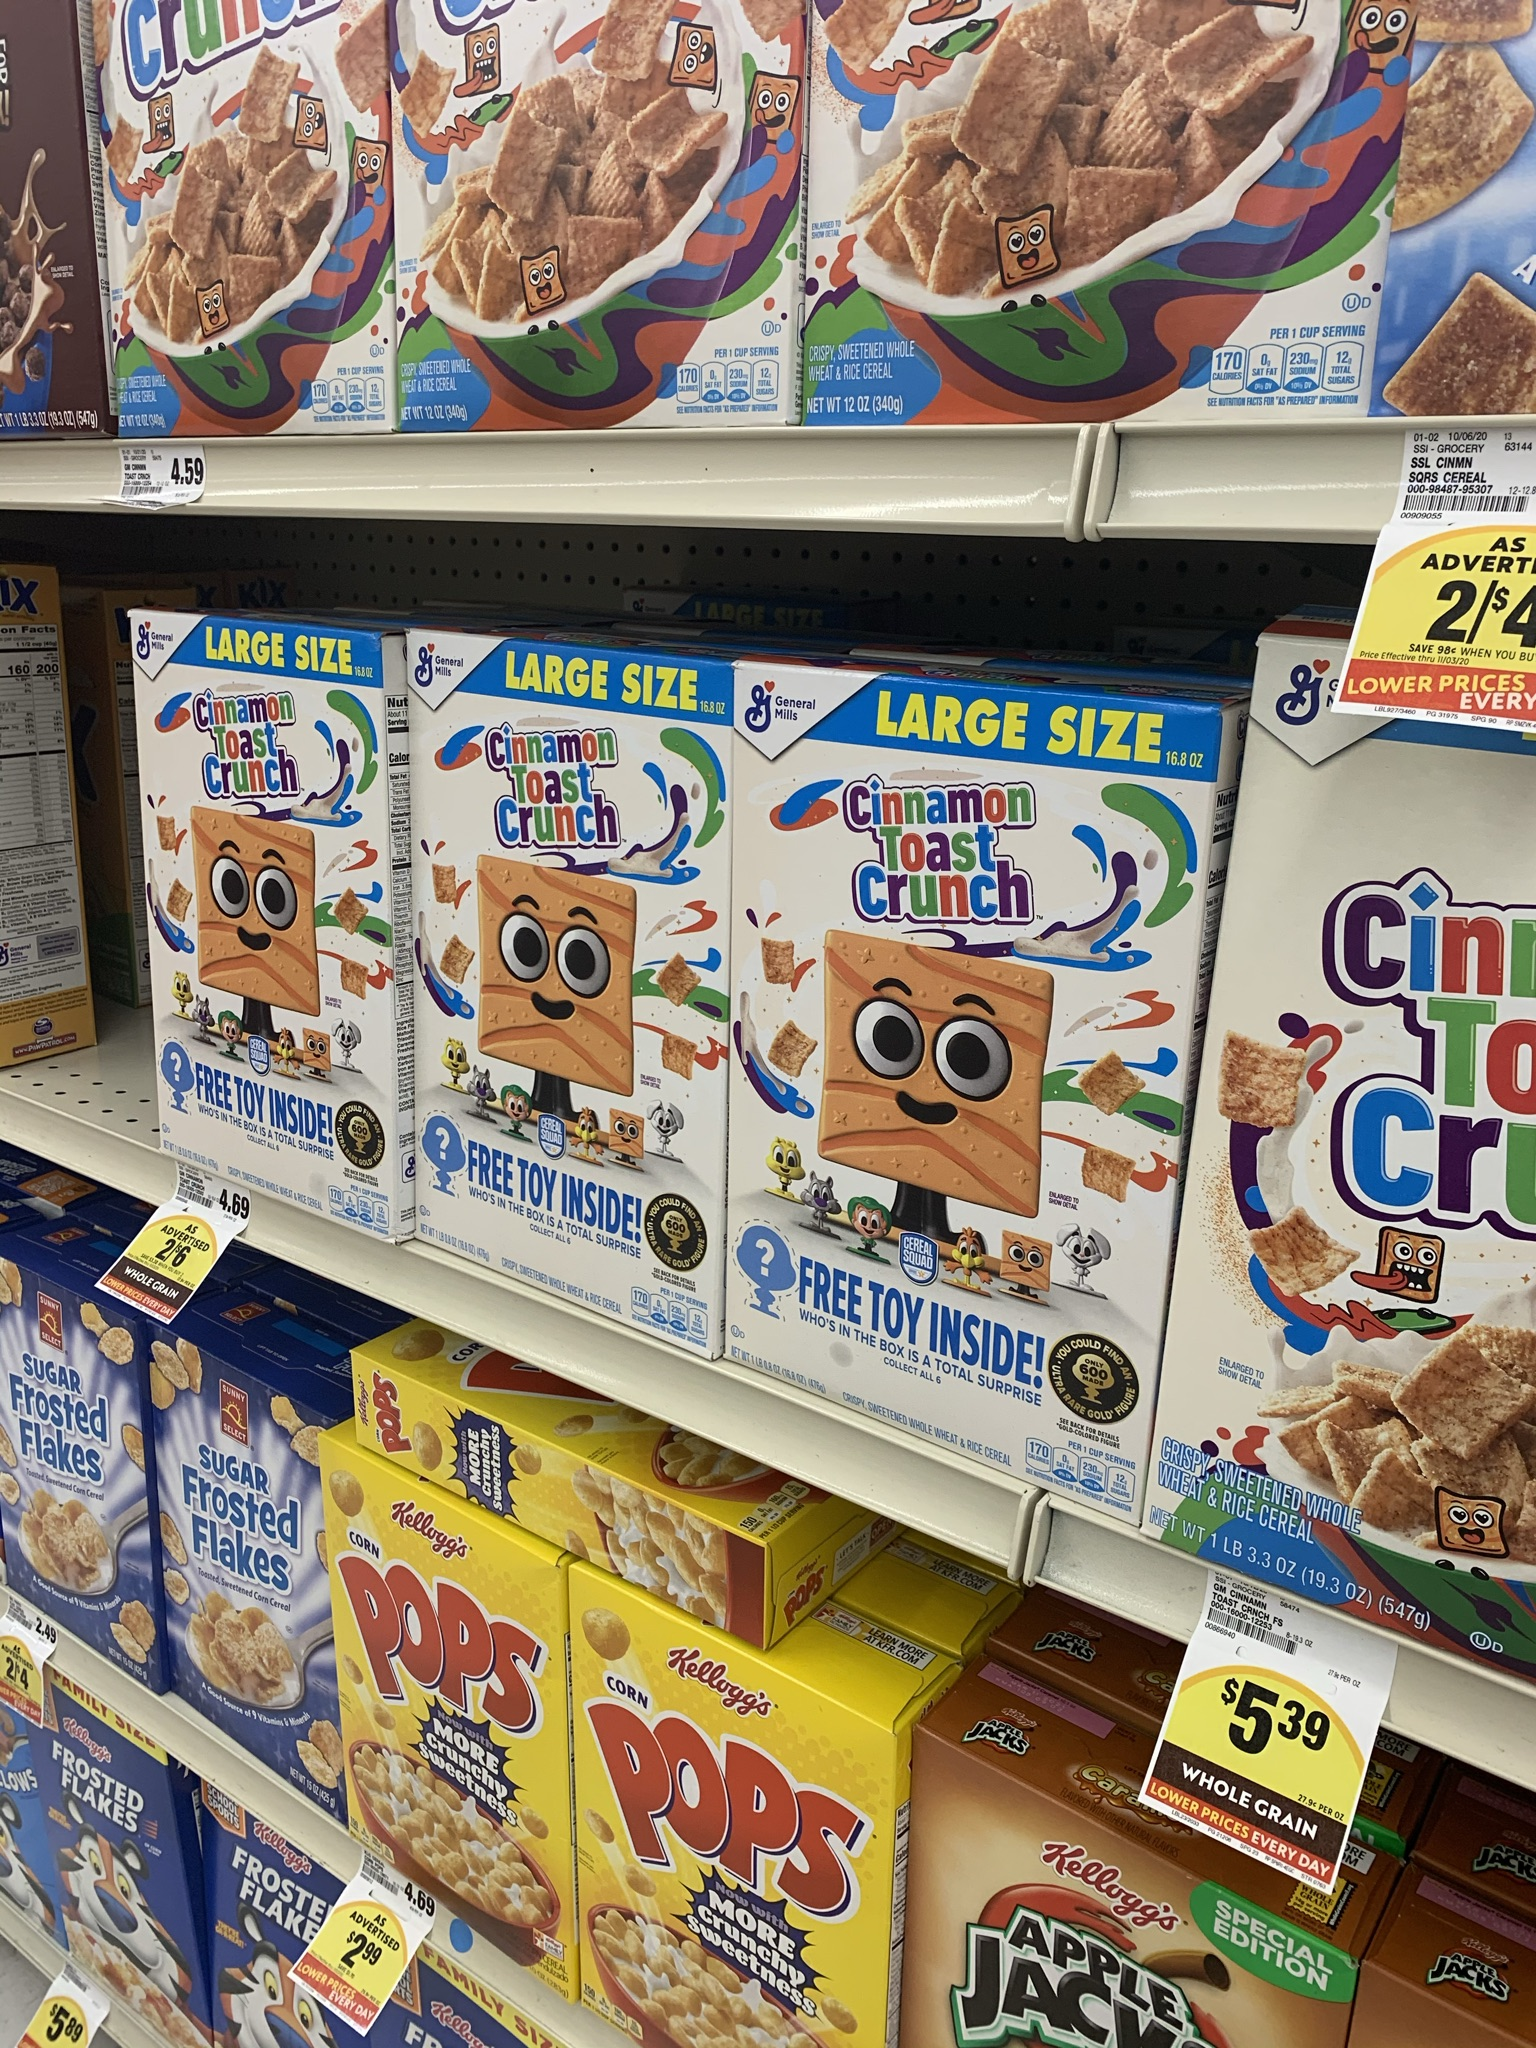box: (753, 684, 1157, 1364), (424, 660, 720, 1261), (142, 632, 400, 1161), (600, 1634, 900, 2042), (106, 10, 394, 434), (352, 1566, 563, 1892), (174, 1393, 321, 1717), (2, 1343, 140, 1558), (53, 1742, 177, 1961)
